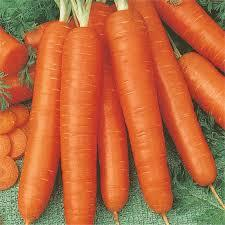Organic: (2, 2, 225, 225)
